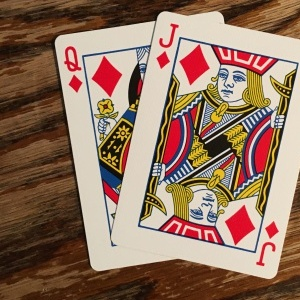card: (53, 24, 158, 276)
